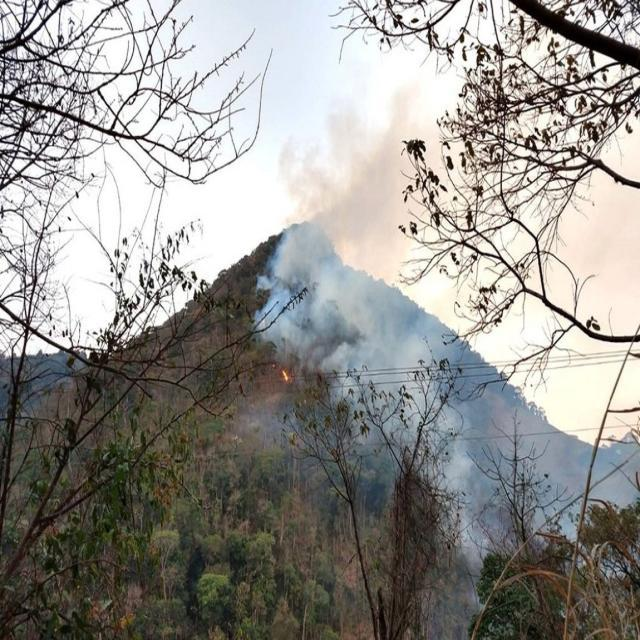Fire: (281, 368, 288, 382)
Smoke: (450, 459, 488, 574), (278, 135, 334, 213), (324, 99, 371, 188), (335, 248, 376, 334), (250, 270, 298, 342), (397, 299, 445, 363), (274, 216, 307, 286), (322, 340, 391, 370), (312, 257, 338, 329)
